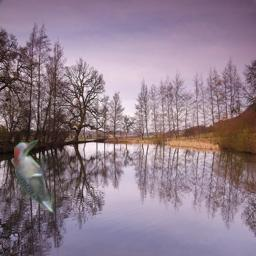Woodpecker: (14, 140, 54, 213)
